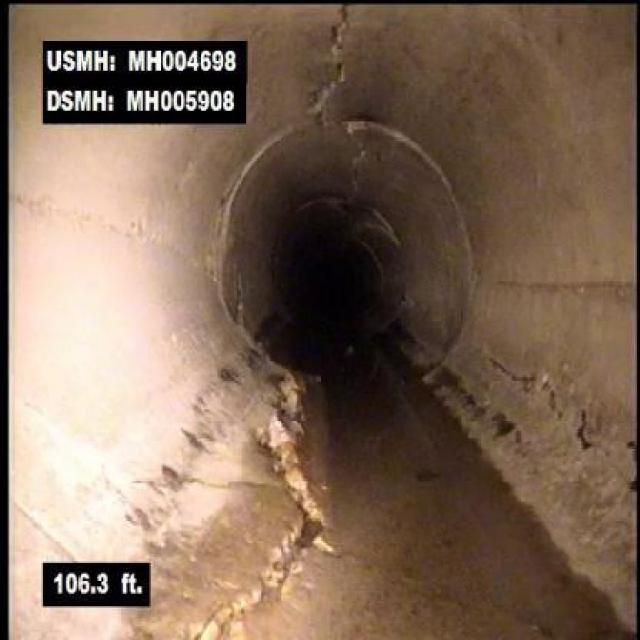Buckling: (238, 355, 344, 574)
Crack: (476, 337, 618, 475), (311, 20, 392, 194), (14, 160, 146, 255)
